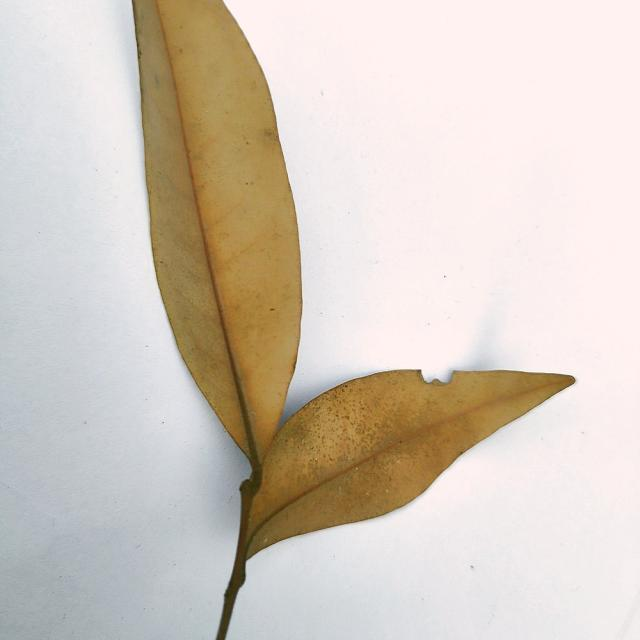Dry_Leaf-Lychee: (134, 0, 304, 505)
